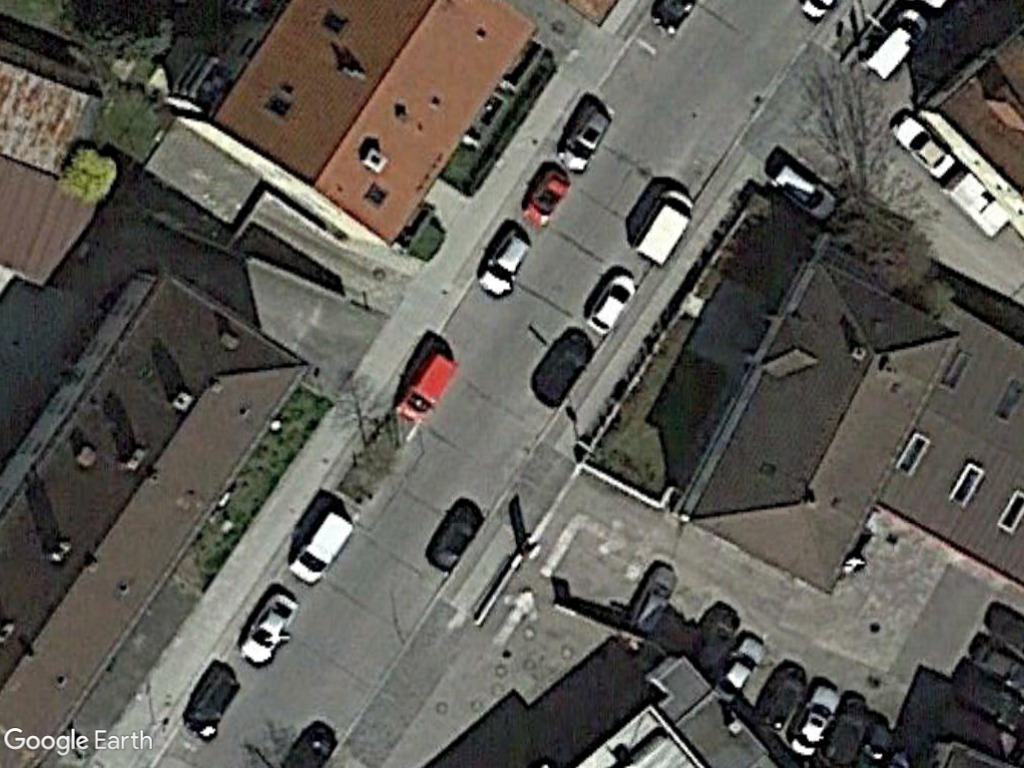car: (237, 589, 300, 670), (393, 351, 459, 428), (886, 110, 956, 179), (708, 632, 771, 704), (787, 686, 847, 760), (768, 160, 838, 222), (475, 226, 533, 300), (557, 104, 614, 174), (585, 265, 637, 338), (523, 168, 574, 234)
van: (283, 508, 360, 588), (852, 6, 932, 82), (630, 187, 699, 267)
